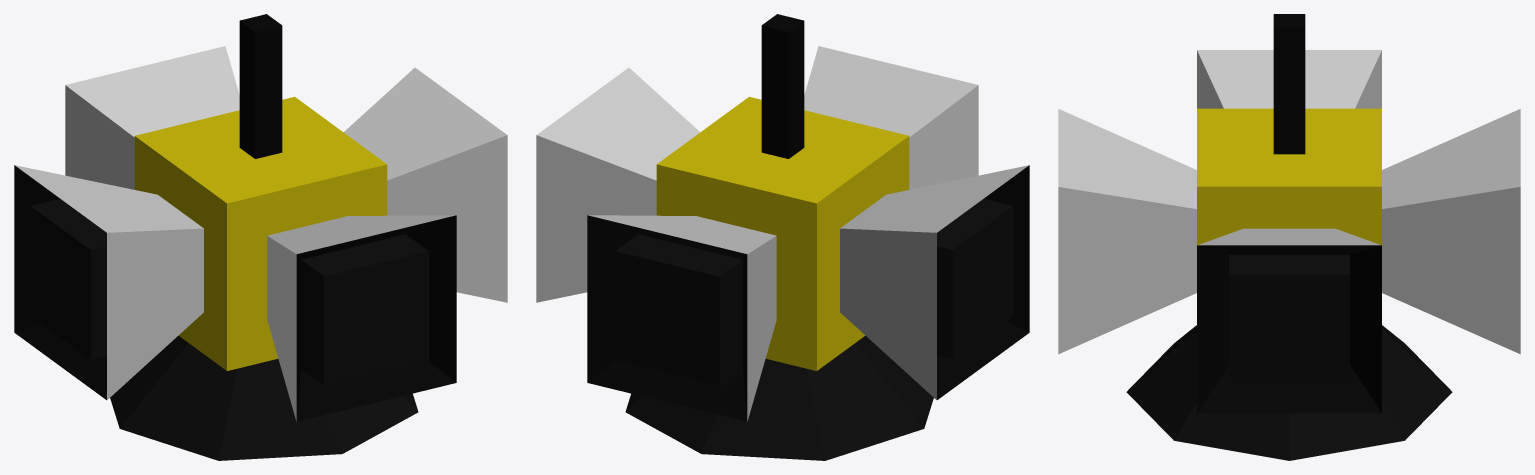
File: SpeakerDrone.obj
The picture shows the model from 3 angles, left to right: view 1: azimuth 30°, elevation 25°; view 2: azimuth 150°, elevation 25°; view 3: azimuth 270°, elevation 25°; orthographic projection.
Parts seen in each view (by area): view 1: Cube_Cube.002; view 2: Cube_Cube.002; view 3: Cube_Cube.002.
Boxes of the visible parts, x1,y1,x2,y2 form: Cube_Cube.002: (14, 14, 507, 460); Cube_Cube.002: (536, 14, 1029, 460); Cube_Cube.002: (1058, 14, 1520, 460).
Bounding box in the file's own units: 1.32 × 1.17 × 1.32.
